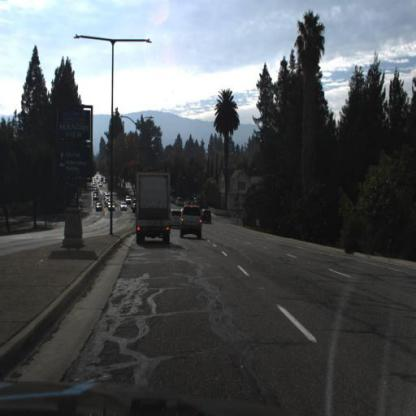car: (180, 206, 204, 241), (200, 206, 213, 227), (171, 209, 184, 229), (119, 202, 129, 214), (108, 204, 117, 216), (120, 202, 129, 214)
truck: (135, 170, 173, 246)
